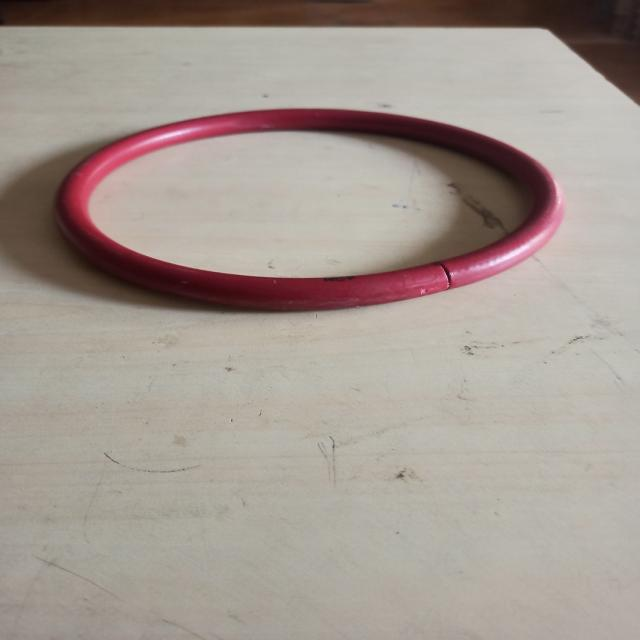daire: (60, 102, 564, 309)
